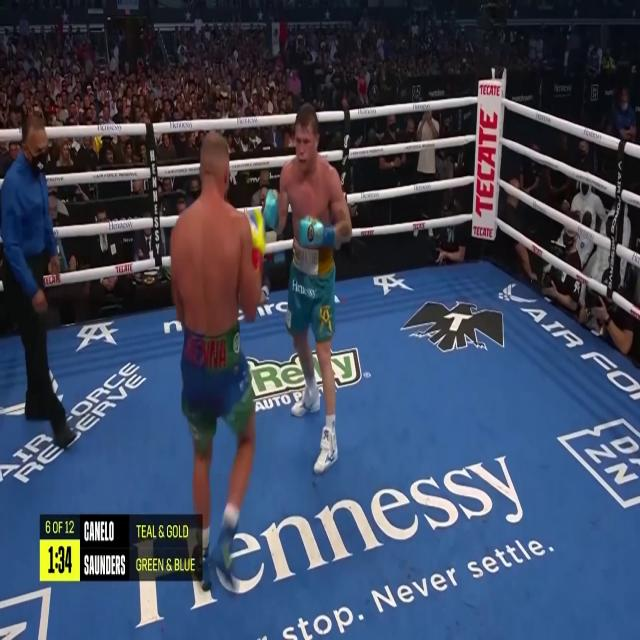boxer_1: (177, 131, 240, 335)
boxer_2: (286, 104, 332, 238)
gloves_1: (245, 209, 263, 275)
gloves_2: (298, 212, 334, 250), (264, 188, 279, 228)
